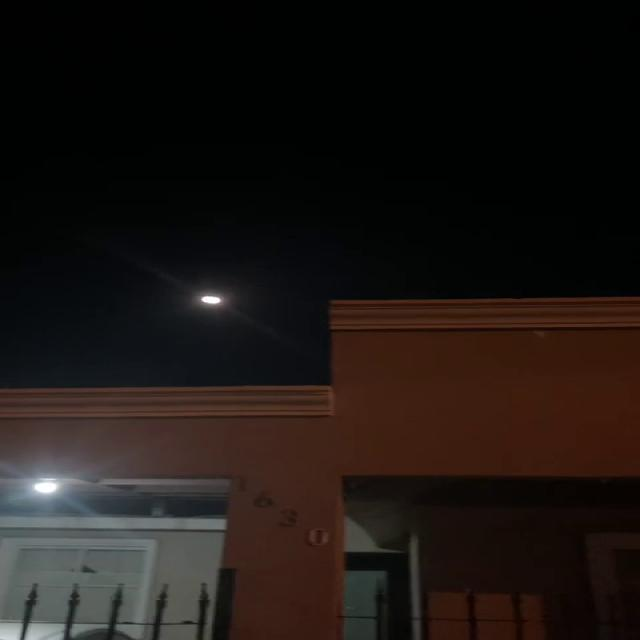moon: (189, 284, 231, 308)
